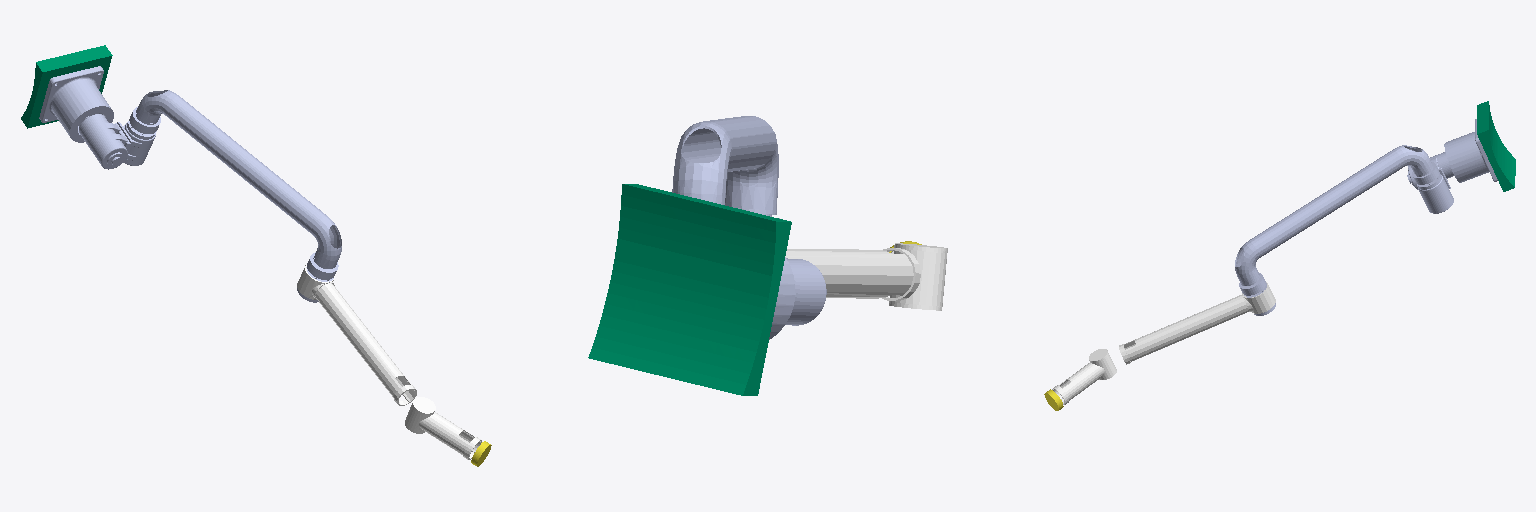
robot.urdf — satellite_9__starlink_sldasm9:
<?xml version='1.0' encoding='utf-8'?>
<robot name="satellite_9__starlink_sldasm9">
  <link name="base_link">
    <visual>
      <geometry>
        <mesh filename="../satellites/satellite_9/satellite.stl" />
      </geometry>
    </visual>
    <collision>
      <geometry>
        <mesh filename="../satellites/satellite_9/satellite.stl" />
      </geometry>
    </collision>
  </link>
  <link name="satellite_9_mount" />
  <joint name="satellite_mount_fixed" type="fixed">
    <parent link="base_link" />
    <child link="satellite_9_mount" />
    <origin xyz="0.613773162348958 -4.00767726065443 2.343015079491069" rpy="3.141592653589793 -1.1777297939944262 -1.5706291085819188" />
  </joint>
  <link name="mount_support">
    <visual>
      <geometry>
        <mesh filename="../satellites/satellite_9/mount_support.stl" />
      </geometry>
    </visual>
    <collision>
      <geometry>
        <mesh filename="../satellites/satellite_9/mount_support.stl" />
      </geometry>
    </collision>
  </link>
  <joint name="support_fixed" type="fixed">
    <parent link="satellite_9_mount" />
    <child link="mount_support" />
    <origin xyz="0 0 0" rpy="0 0 0" />
  </joint>
  <joint name="arm_adapter_fixed" type="fixed">
    <parent link="satellite_9_mount" />
    <child link="starlink_space_manipulator_base_link" />
    <origin xyz="0.009087204933166504 0.008519247174263 0.16000000119209337" rpy="-1.5707963267948966 0 0.0" />
  </joint>
  <link name="starlink_space_manipulator_base_link">
    <inertial>
      <origin xyz="-0.00908719924946466 0.0225428225681148 -0.00851924929637313" rpy="0 0 0" />
      <mass value="8.66024015898073" />
      <inertia ixx="0.0960303512697639" ixy="1.65511904636803E-18" ixz="6.22039820639877E-19" iyy="0.103454922260914" iyz="-9.68471289978311E-19" izz="0.0960303512697639" />
    </inertial>
    <visual>
      <origin xyz="0 0 0" rpy="0 0 0" />
      <geometry>
        <mesh filename="../arms/starlink_sldasm9/meshes/starlink_space_manipulator_base_link.STL" />
      </geometry>
      <material name="">
        <color rgba="0.792156862745098 0.819607843137255 0.933333333333333 1" />
      </material>
    </visual>
    <collision>
      <origin xyz="0 0 0" rpy="0 0 0" />
      <geometry>
        <mesh filename="../arms/starlink_sldasm9/meshes/starlink_space_manipulator_base_link.STL" />
      </geometry>
    </collision>
  </link>
  <link name="starlink_space_manipulator_Shoulder_link_1">
    <inertial>
      <origin xyz="-0.000399471745595769 -0.100006574194712 -0.17423940484461" rpy="0 0 0" />
      <mass value="5.16309216784981" />
      <inertia ixx="0.0524543852135592" ixy="0.00348154867667969" ixz="6.96526910910627E-05" iyy="0.0306595326318824" iyz="-0.00056674368052247" izz="0.0439979075615329" />
    </inertial>
    <visual>
      <origin xyz="0 0 0" rpy="0 0 0" />
      <geometry>
        <mesh filename="../arms/starlink_sldasm9/meshes/starlink_space_manipulator_Shoulder_link_1.STL" />
      </geometry>
      <material name="">
        <color rgba="0.792156862745098 0.819607843137255 0.933333333333333 1" />
      </material>
    </visual>
    <collision>
      <origin xyz="0 0 0" rpy="0 0 0" />
      <geometry>
        <mesh filename="../arms/starlink_sldasm9/meshes/starlink_space_manipulator_Shoulder_link_1.STL" />
      </geometry>
    </collision>
  </link>
  <joint name="starlink_space_manipulator_Shoulder_link_1_yaw" type="revolute">
    <origin xyz="-0.0090872 -0.065 -0.0085192" rpy="1.5708 -0.15574 3.1416" />
    <parent link="starlink_space_manipulator_base_link" />
    <child link="starlink_space_manipulator_Shoulder_link_1" />
    <axis xyz="0 0 -1" />
    <limit lower="-3.14" upper="3.14" effort="0" velocity="0" />
  </joint>
  <link name="starlink_space_manipulator_Upper_arm_Link_1">
    <inertial>
      <origin xyz="0.402106341472203 -0.696465272634528 -0.170177523085579" rpy="0 0 0" />
      <mass value="5.05309869040685" />
      <inertia ixx="0.388719013133801" ixy="0.210155896498943" ixz="9.30829370680679E-08" iyy="0.146049057575642" iyz="1.71830458004218E-07" izz="0.500677708275447" />
    </inertial>
    <visual>
      <origin xyz="0 0 0" rpy="0 0 0" />
      <geometry>
        <mesh filename="../arms/starlink_sldasm9/meshes/starlink_space_manipulator_Upper_arm_Link_1.STL" />
      </geometry>
      <material name="">
        <color rgba="0.792156862745098 0.819607843137255 0.933333333333333 1" />
      </material>
    </visual>
    <collision>
      <origin xyz="0 0 0" rpy="0 0 0" />
      <geometry>
        <mesh filename="../arms/starlink_sldasm9/meshes/starlink_space_manipulator_Upper_arm_Link_1.STL" />
      </geometry>
    </collision>
  </link>
  <joint name="starlink_space_manipulator_Upper_arm_Link_1_roll" type="revolute">
    <origin xyz="0 -0.2 -0.18" rpy="1.5708 0.90646 1.5708" />
    <parent link="starlink_space_manipulator_Shoulder_link_1" />
    <child link="starlink_space_manipulator_Upper_arm_Link_1" />
    <axis xyz="0 0 -1" />
    <limit lower="-2" upper="1.5" effort="0" velocity="0" />
  </joint>
  <link name="starlink_space_manipulator_Mid_arm_Link_1">
    <inertial>
      <origin xyz="-0.000406052776441013 0.317722269561105 0.0155331755135703" rpy="0 0 0" />
      <mass value="1.57635531881168" />
      <inertia ixx="0.133610363618846" ixy="5.33750993405138E-05" ixz="-3.60473795202962E-09" iyy="0.00502119434334708" iyz="-2.514275749911E-05" izz="0.134586018527477" />
    </inertial>
    <visual>
      <origin xyz="0 0 0" rpy="0 0 0" />
      <geometry>
        <mesh filename="../arms/starlink_sldasm9/meshes/starlink_space_manipulator_Mid_arm_Link_1.STL" />
      </geometry>
      <material name="">
        <color rgba="1 1 1 1" />
      </material>
    </visual>
    <collision>
      <origin xyz="0 0 0" rpy="0 0 0" />
      <geometry>
        <mesh filename="../arms/starlink_sldasm9/meshes/starlink_space_manipulator_Mid_arm_Link_1.STL" />
      </geometry>
    </collision>
  </link>
  <joint name="starlink_space_manipulator_Mid_arm_Link_1_roll" type="revolute">
    <origin xyz="0.599999999999673 -1.03923048454122 0" rpy="-3.14159265358979 0 0.828250280535091" />
    <parent link="starlink_space_manipulator_Upper_arm_Link_1" />
    <child link="starlink_space_manipulator_Mid_arm_Link_1" />
    <axis xyz="0 0 -1" />
    <limit lower="-3.14" upper="3.14" effort="0" velocity="0" />
  </joint>
  <link name="starlink_space_manipulator_Upper_wrist_Link_1">
    <inertial>
      <origin xyz="-0.000400003664721815 -0.201565878030355 -0.00216705855311664" rpy="0 0 0" />
      <mass value="0.994770641034713" />
      <inertia ixx="0.00165409639029414" ixy="-7.59103925411082E-06" ixz="-3.17403155320863E-06" iyy="0.00201437937768072" iyz="2.63246464091218E-06" izz="0.00159638838344539" />
    </inertial>
    <visual>
      <origin xyz="0 0 0" rpy="0 0 0" />
      <geometry>
        <mesh filename="../arms/starlink_sldasm9/meshes/starlink_space_manipulator_Upper_wrist_Link_1.STL" />
      </geometry>
      <material name="">
        <color rgba="0.792156862745098 0.819607843137255 0.933333333333333 1" />
      </material>
    </visual>
    <collision>
      <origin xyz="0 0 0" rpy="0 0 0" />
      <geometry>
        <mesh filename="../arms/starlink_sldasm9/meshes/starlink_space_manipulator_Upper_wrist_Link_1.STL" />
      </geometry>
    </collision>
  </link>
  <joint name="starlink_space_manipulator_Upper_wrist_Link_1_yaw" type="revolute">
    <origin xyz="-0.00050155183276912 0.686793643713439 0.0155010481432086" rpy="0 -0.0763876794035917 3.14159265358979" />
    <parent link="starlink_space_manipulator_Mid_arm_Link_1" />
    <child link="starlink_space_manipulator_Upper_wrist_Link_1" />
    <axis xyz="0 -1 0" />
    <limit lower="-3.14" upper="3.14" effort="0" velocity="0" />
  </joint>
  <link name="starlink_space_manipulator_Upper_wrist_Link_2">
    <inertial>
      <origin xyz="8.45304168883843E-08 0.0848318719623631 -0.00515657391755576" rpy="0 0 0" />
      <mass value="1.03716823037577" />
      <inertia ixx="0.0100970561498589" ixy="1.32295633551837E-09" ixz="-9.43675929999229E-09" iyy="0.00222325407426665" iyz="-2.08772874866187E-06" izz="0.0105840577017538" />
    </inertial>
    <visual>
      <origin xyz="0 0 0" rpy="0 0 0" />
      <geometry>
        <mesh filename="../arms/starlink_sldasm9/meshes/starlink_space_manipulator_Upper_wrist_Link_2.STL" />
      </geometry>
      <material name="">
        <color rgba="1 1 1 1" />
      </material>
    </visual>
    <collision>
      <origin xyz="0 0 0" rpy="0 0 0" />
      <geometry>
        <mesh filename="../arms/starlink_sldasm9/meshes/starlink_space_manipulator_Upper_wrist_Link_2.STL" />
      </geometry>
    </collision>
  </link>
  <joint name="starlink_space_manipulator_Upper_wrist_Link_2_roll" type="revolute">
    <origin xyz="0 -0.30020635628656 0" rpy="-0.0158640776811277 -0.0317448426184613 -2.67805461574742" />
    <parent link="starlink_space_manipulator_Upper_wrist_Link_1" />
    <child link="starlink_space_manipulator_Upper_wrist_Link_2" />
    <axis xyz="0 0 1" />
    <limit lower="-2.5" upper="1.8" effort="0" velocity="0" />
  </joint>
  <link name="starlink__space_manipulator_2F-Body_Link">
    </link>
  <joint name="starlink__space_manipulator_2F-Body_Link_yaw" type="revolute">
    <origin xyz="0 0.34845 -0.0053813" rpy="-3.1416 0.93592 0" />
    <parent link="starlink_space_manipulator_Upper_wrist_Link_2" />
    <child link="starlink__space_manipulator_2F-Body_Link" />
    <axis xyz="0 -1 0" />
    <limit lower="-3.14" upper="3.14" effort="0" velocity="0" />
  </joint>
  <link name="angular_hand">
    <visual>
      <geometry>
        <mesh filename="../arms/starlink_sldasm9/meshes/hand_2finger.STL" scale="2 2 2" />
      </geometry>
    </visual>
    <collision>
      <geometry>
        <mesh filename="../arms/starlink_sldasm9/meshes/hand_2finger.STL" scale="2 2 2" />
      </geometry>
    </collision>
  </link>
  <joint name="angular_hand_fixed" type="fixed">
    <parent link="starlink__space_manipulator_2F-Body_Link" />
    <child link="angular_hand" />
    <origin xyz="0 -0.036 0" rpy="-1.5707963267948966 0 0" />
  </joint>
  <link name="angular_adapter">
    <visual>
      <geometry>
        <mesh filename="../arms/starlink_sldasm9/meshes/angular_adapter.stl" />
      </geometry>
    </visual>
    <collision>
      <geometry>
        <mesh filename="../arms/starlink_sldasm9/meshes/angular_adapter.stl" />
      </geometry>
    </collision>
  </link>
  <joint name="angular_adapter_fixed" type="fixed">
    <parent link="starlink__space_manipulator_2F-Body_Link" />
    <child link="angular_adapter" />
    <origin xyz="0 -0.0005 0" rpy="1.5707963267948966 0 0" />
  </joint>
  <link name="angular_finger_1">
    <visual>
      <geometry>
        <mesh filename="../arms/starlink_sldasm9/meshes/finger_proximal.STL" scale="2 2 2" />
      </geometry>
    </visual>
    <collision>
      <geometry>
        <mesh filename="../arms/starlink_sldasm9/meshes/finger_proximal.STL" scale="2 2 2" />
      </geometry>
    </collision>
  </link>
  <link name="angular_tip_1">
    <visual>
      <geometry>
        <mesh filename="../arms/starlink_sldasm9/meshes/finger_distal.STL" scale="2 2 2" />
      </geometry>
    </visual>
    <collision>
      <geometry>
        <mesh filename="../arms/starlink_sldasm9/meshes/finger_distal.STL" scale="2 2 2" />
      </geometry>
    </collision>
  </link>
  <joint name="angular_joint_1" type="revolute">
    <parent link="angular_hand" />
    <child link="angular_finger_1" />
    <axis xyz="0 0 1" />
    <origin xyz="-0.005 0.0619 -0.22964" rpy="-1.570796327 .649262481663582 1.5707963267948966" />
    <limit lower="0" upper="1.51" effort="2" velocity="1" />
  </joint>
  <joint name="angular_joint_tip_1" type="revolute">
    <parent link="angular_finger_1" />
    <child link="angular_tip_1" />
    <axis xyz="0 0 1" />
    <origin xyz="0.088 -0.006 0.0" rpy="0 0 0" />
    <limit lower="0" upper="2" effort="2" velocity="1" />
  </joint>
  <link name="angular_finger_2">
    <visual>
      <geometry>
        <mesh filename="../arms/starlink_sldasm9/meshes/finger_proximal.STL" scale="2 2 2" />
      </geometry>
    </visual>
    <collision>
      <geometry>
        <mesh filename="../arms/starlink_sldasm9/meshes/finger_proximal.STL" scale="2 2 2" />
      </geometry>
    </collision>
  </link>
  <link name="angular_tip_2">
    <visual>
      <geometry>
        <mesh filename="../arms/starlink_sldasm9/meshes/finger_distal.STL" scale="2 2 2" />
      </geometry>
    </visual>
    <collision>
      <geometry>
        <mesh filename="../arms/starlink_sldasm9/meshes/finger_distal.STL" scale="2 2 2" />
      </geometry>
    </collision>
  </link>
  <joint name="angular_joint_2" type="revolute">
    <parent link="angular_hand" />
    <child link="angular_finger_2" />
    <axis xyz="0 0 1" />
    <origin xyz="-0.005 -0.0619 -0.22964" rpy="-1.570796327 .649262481663582 -1.5707963267948966" />
    <limit lower="0" upper="1.51" effort="2" velocity="1" />
  </joint>
  <joint name="angular_joint_tip_2" type="revolute">
    <parent link="angular_finger_2" />
    <child link="angular_tip_2" />
    <axis xyz="0 0 1" />
    <origin xyz="0.088 -0.006 0.0" rpy="0 0 0" />
    <limit lower="0" upper="2" effort="2" velocity="1" />
  </joint>
  <link name="angular_tcp" />
  <joint name="angular_tcp_fixed" type="fixed">
    <parent link="angular_hand" />
    <child link="angular_tcp" />
    <origin xyz="-0.005 0 -0.34" rpy="3.141592653589793 0 0" />
  </joint>
</robot>

--- Render facts (derived) ---
Views: 3 orthographic renders of the robot side by side, from view 1: azimuth 30°, elevation 25°; view 2: azimuth 150°, elevation 25°; view 3: azimuth 270°, elevation 25°.
Model satellite_9__starlink_sldasm9 with 17 links and 16 joints (10 revolute, 6 fixed), rooted at base_link, posed every joint at zero.
Links seen in each view (by area): view 1: starlink_space_manipulator_Upper_arm_Link_1, starlink_space_manipulator_Mid_arm_Link_1, starlink_space_manipulator_base_link, starlink_space_manipulator_Shoulder_link_1, mount_support, starlink_space_manipulator_Upper_wrist_Link_2; view 2: mount_support, starlink_space_manipulator_Upper_arm_Link_1, starlink_space_manipulator_Mid_arm_Link_1, starlink_space_manipulator_Upper_wrist_Link_2, starlink_space_manipulator_Shoulder_link_1, starlink_space_manipulator_base_link; view 3: starlink_space_manipulator_Upper_arm_Link_1, starlink_space_manipulator_Mid_arm_Link_1, mount_support, starlink_space_manipulator_base_link, starlink_space_manipulator_Shoulder_link_1, starlink_space_manipulator_Upper_wrist_Link_2.
Boxes of the visible links, box(x1,y1,x2,y2) form: starlink_space_manipulator_Upper_arm_Link_1: box(136, 90, 341, 302); starlink_space_manipulator_Mid_arm_Link_1: box(297, 264, 416, 405); starlink_space_manipulator_base_link: box(39, 66, 113, 142); starlink_space_manipulator_Shoulder_link_1: box(79, 107, 160, 169); mount_support: box(21, 45, 112, 128); starlink_space_manipulator_Upper_wrist_Link_2: box(405, 397, 481, 459); mount_support: box(588, 184, 791, 395); starlink_space_manipulator_Upper_arm_Link_1: box(672, 116, 779, 218); starlink_space_manipulator_Mid_arm_Link_1: box(785, 248, 920, 300); starlink_space_manipulator_Upper_wrist_Link_2: box(889, 243, 947, 310); starlink_space_manipulator_Shoulder_link_1: box(786, 258, 826, 325); starlink_space_manipulator_base_link: box(769, 257, 795, 339); starlink_space_manipulator_Upper_arm_Link_1: box(1235, 145, 1433, 315); starlink_space_manipulator_Mid_arm_Link_1: box(1119, 282, 1275, 364); mount_support: box(1477, 101, 1515, 191); starlink_space_manipulator_base_link: box(1444, 119, 1497, 182); starlink_space_manipulator_Shoulder_link_1: box(1407, 152, 1453, 213); starlink_space_manipulator_Upper_wrist_Link_2: box(1052, 349, 1116, 404).
Bounding box of the posed robot: 1.17 × 2.72 × 1.46 m (x, y, z).
Meshes: 12 distinct files referenced, 7 mesh visuals loaded (7 binary STL); not drawn: 7 (reference not matched to a file when rendering).
